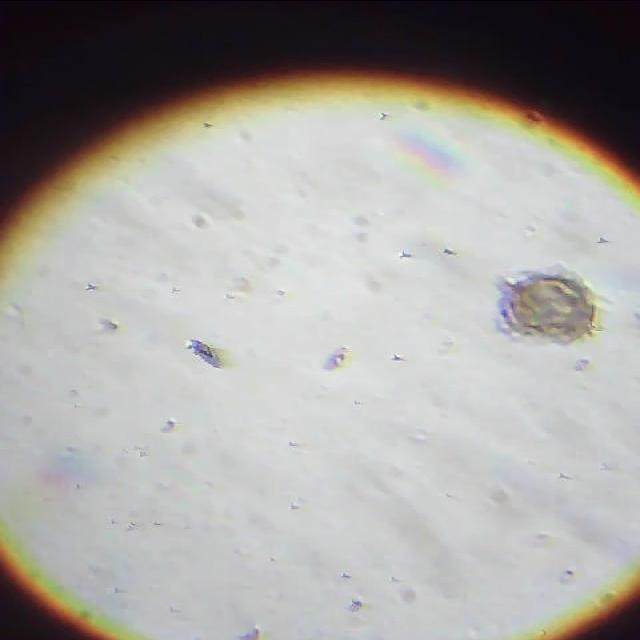alexandrium: (488, 265, 609, 339)
